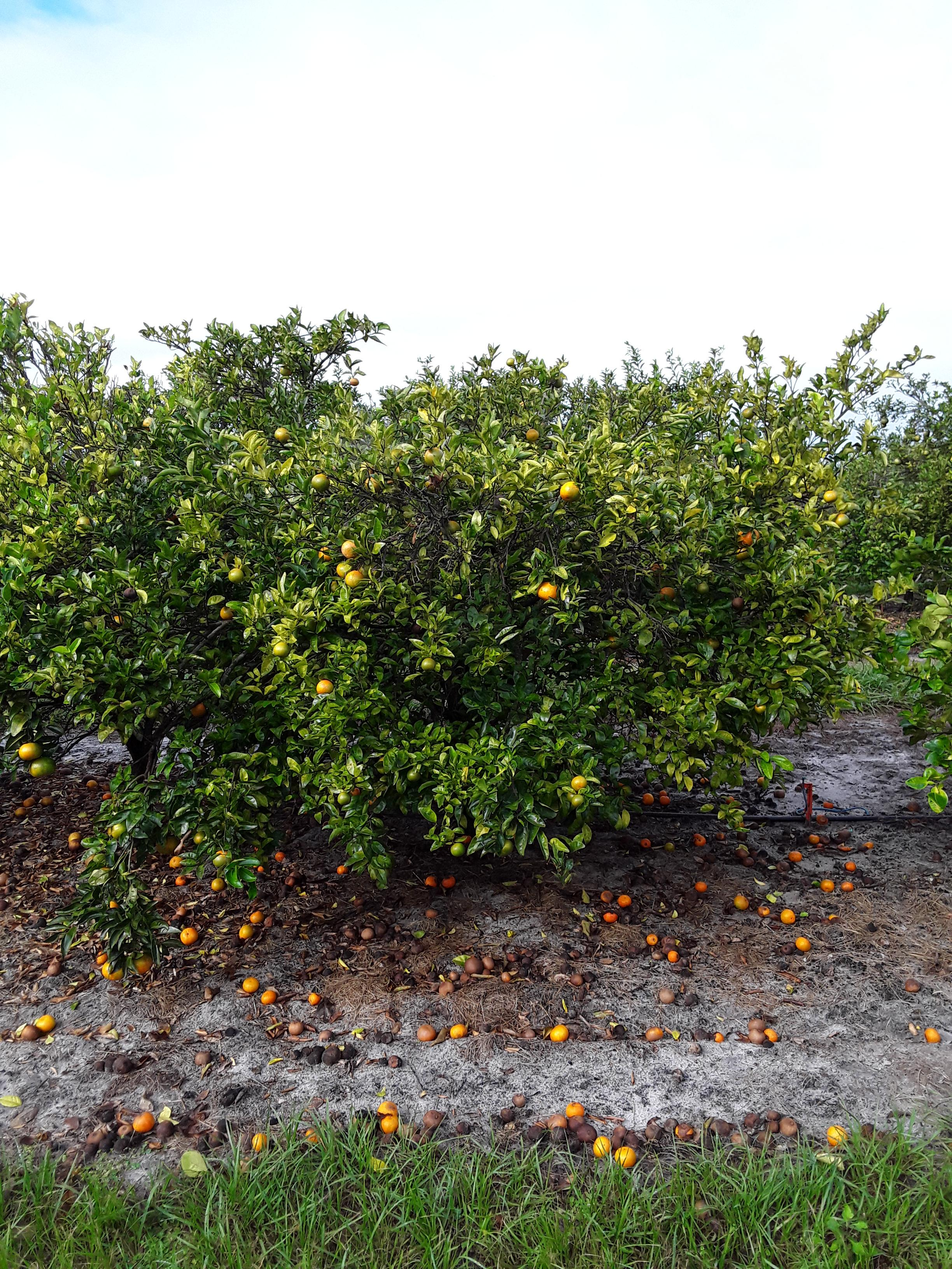fruit_on_ground: (28, 755, 56, 779), (16, 739, 43, 763), (357, 561, 384, 582), (557, 479, 581, 502), (308, 470, 331, 493), (535, 579, 559, 601), (734, 525, 759, 546), (339, 537, 362, 559), (343, 569, 366, 591), (155, 834, 179, 855), (107, 819, 130, 840), (73, 512, 95, 533), (361, 474, 383, 495), (188, 699, 210, 720), (313, 676, 335, 696), (421, 446, 442, 466), (315, 544, 336, 564), (646, 558, 668, 577), (271, 424, 291, 444), (403, 764, 422, 784), (418, 654, 438, 673), (226, 565, 246, 584), (496, 838, 515, 857), (443, 517, 462, 536), (216, 603, 235, 622), (270, 639, 289, 658), (105, 460, 124, 479), (657, 584, 677, 602), (448, 839, 468, 857), (322, 580, 342, 598), (730, 545, 751, 562), (548, 372, 567, 390), (422, 475, 441, 493), (333, 559, 352, 577), (523, 425, 542, 443), (107, 612, 126, 630), (211, 849, 229, 867), (729, 593, 747, 611), (334, 788, 352, 806), (569, 773, 588, 790), (137, 414, 155, 431), (569, 793, 587, 810), (191, 827, 207, 846), (604, 630, 621, 647), (833, 511, 850, 528), (459, 832, 477, 848), (739, 403, 757, 419), (704, 634, 722, 650), (364, 792, 381, 808), (278, 362, 295, 378), (821, 487, 838, 503), (374, 600, 392, 615), (695, 580, 711, 596), (348, 783, 364, 798), (347, 373, 362, 388), (753, 700, 767, 714), (123, 587, 138, 600)
fruit_on_tree: (126, 953, 155, 976), (109, 1053, 138, 1075), (131, 1111, 156, 1134), (615, 1144, 638, 1169), (825, 1124, 850, 1146), (100, 962, 126, 983), (19, 1021, 42, 1044), (178, 924, 200, 947), (249, 1131, 271, 1154), (33, 1012, 56, 1034), (546, 1023, 570, 1044), (644, 1120, 667, 1141), (674, 1121, 696, 1142), (415, 1023, 438, 1043), (591, 1137, 612, 1158), (711, 1116, 733, 1136), (422, 1108, 444, 1128), (693, 1196, 712, 1219), (545, 1111, 568, 1130), (575, 1121, 597, 1140), (156, 1120, 176, 1140), (609, 1124, 629, 1144), (240, 975, 260, 995), (564, 1100, 585, 1119), (322, 1045, 342, 1064), (779, 1116, 799, 1135), (525, 1123, 546, 1141), (379, 1115, 400, 1133), (302, 1126, 321, 1145), (923, 1026, 942, 1045), (464, 955, 483, 974), (192, 1049, 212, 1067), (449, 1021, 469, 1039), (742, 1110, 761, 1128), (903, 976, 922, 994), (378, 1099, 397, 1117), (564, 1137, 584, 1154), (238, 922, 256, 940), (93, 947, 110, 966), (751, 1130, 770, 1147), (729, 1129, 748, 1146), (259, 988, 278, 1005), (657, 987, 675, 1004), (794, 935, 812, 952), (779, 908, 797, 925), (732, 893, 750, 910), (646, 1025, 664, 1042), (747, 1017, 766, 1033), (438, 980, 457, 996), (858, 1122, 875, 1139), (480, 954, 497, 971), (288, 1019, 305, 1035), (763, 1026, 779, 1043), (209, 876, 227, 891), (168, 854, 184, 870), (359, 925, 375, 941), (616, 892, 632, 908), (683, 994, 700, 1009), (748, 1029, 765, 1044), (249, 909, 266, 924), (66, 830, 83, 845), (765, 1120, 781, 1135), (499, 1106, 515, 1121), (455, 1119, 471, 1134), (343, 925, 359, 940), (764, 1107, 780, 1122), (690, 831, 706, 846), (644, 931, 660, 946), (511, 1091, 527, 1106), (306, 990, 322, 1005), (600, 888, 615, 904), (423, 872, 439, 887), (441, 873, 457, 888), (640, 790, 655, 806), (409, 940, 426, 954), (21, 794, 38, 808), (386, 1054, 401, 1069), (569, 972, 584, 987), (691, 1027, 707, 1041), (601, 910, 617, 924), (819, 878, 835, 892), (106, 897, 121, 911), (173, 904, 188, 918), (757, 902, 771, 917), (666, 948, 680, 963), (316, 1028, 332, 1041), (787, 849, 803, 862), (663, 839, 677, 853), (702, 851, 717, 864), (775, 859, 790, 872), (446, 968, 461, 981), (905, 799, 920, 812), (39, 793, 54, 806), (815, 812, 830, 825), (693, 879, 708, 892), (840, 880, 855, 893), (392, 949, 406, 962), (85, 776, 99, 789), (755, 774, 768, 788), (334, 863, 348, 876), (838, 827, 852, 840), (505, 951, 518, 965), (273, 849, 287, 862), (639, 836, 653, 849), (13, 804, 27, 817), (499, 971, 513, 984), (0, 869, 10, 887), (712, 1031, 725, 1044), (284, 874, 297, 887), (99, 789, 113, 801), (734, 846, 748, 858), (173, 874, 187, 886), (773, 787, 787, 799), (735, 829, 748, 841), (650, 949, 663, 961), (425, 907, 438, 919), (822, 798, 836, 809), (250, 842, 262, 854), (255, 862, 267, 874), (743, 856, 755, 868), (807, 832, 819, 844), (827, 911, 840, 922), (844, 859, 857, 870), (658, 795, 671, 806), (569, 948, 581, 959), (724, 794, 736, 805), (714, 830, 726, 841), (861, 840, 873, 851), (838, 842, 851, 852), (819, 834, 831, 844), (698, 775, 708, 785), (793, 784, 804, 793)
